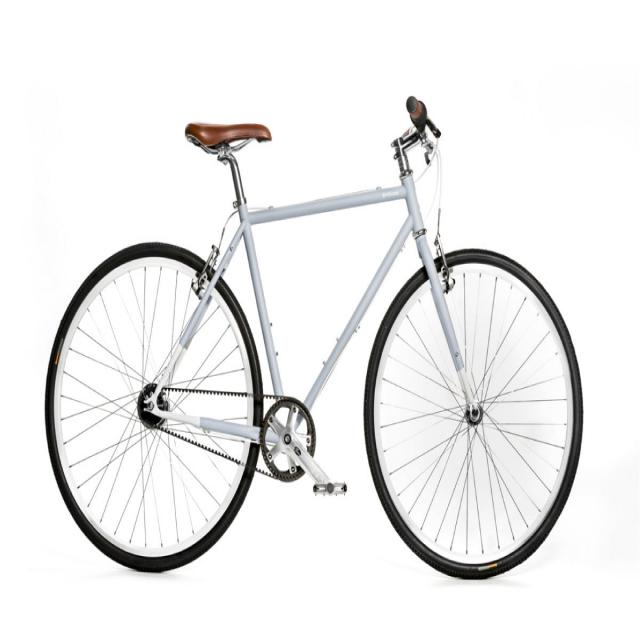bicycle: (34, 86, 595, 609)
